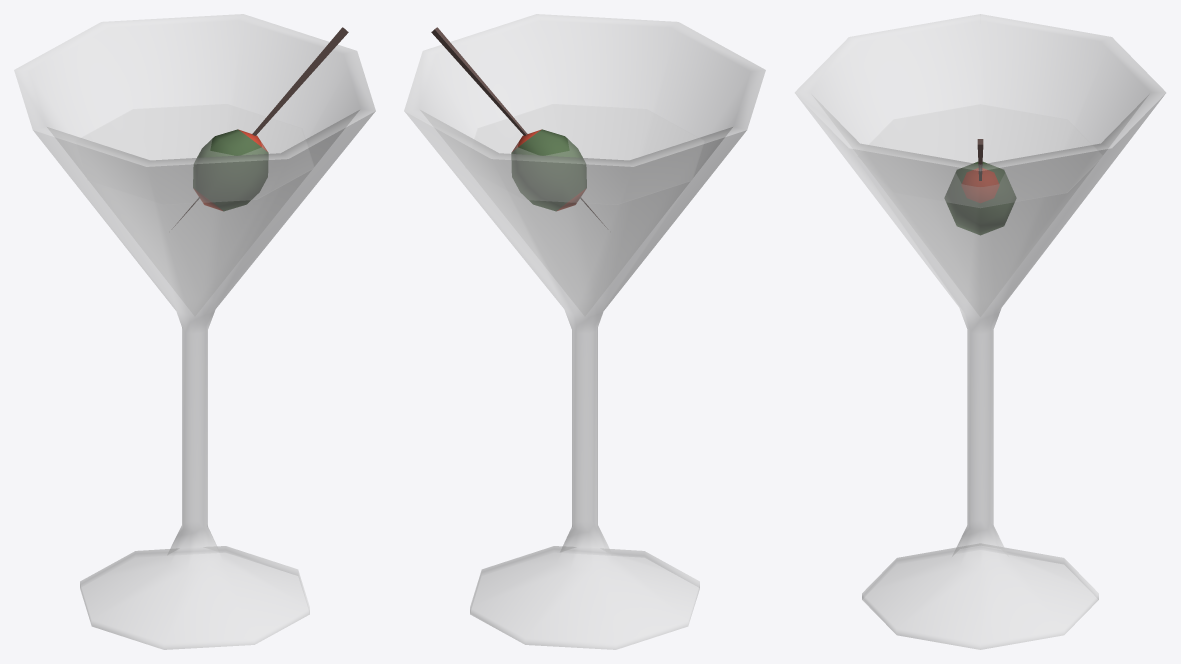
The model's file is consumables-drinks-martini_v1.glb.
3 views of the same model, side by side, from view 1: azimuth 30°, elevation 25°; view 2: azimuth 150°, elevation 25°; view 3: azimuth 270°, elevation 25° (orthographic).
Parts seen in each view (by area): view 1: Martini_transp, Martini_transp1, Martini_base; view 2: Martini_transp, Martini_transp1, Martini_base; view 3: Martini_transp, Martini_transp1, Martini_base.
Part boxes in pixels (left/top/right/bottom): Martini_transp: left=14, top=14, right=375, bottom=649; Martini_transp1: left=82, top=104, right=313, bottom=204; Martini_base: left=173, top=27, right=348, bottom=227; Martini_transp: left=404, top=14, right=765, bottom=649; Martini_transp1: left=466, top=104, right=697, bottom=204; Martini_base: left=431, top=27, right=606, bottom=227; Martini_transp: left=795, top=14, right=1165, bottom=649; Martini_transp1: left=858, top=104, right=1102, bottom=207; Martini_base: left=944, top=139, right=1016, bottom=235.
Bounding box in the file's own units: 0.1505 × 0.2379 × 0.1505.
